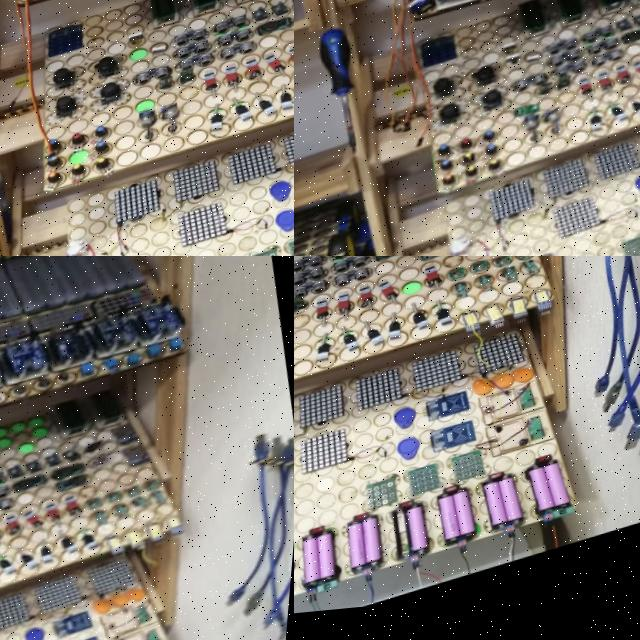Green-circles: (0, 418, 50, 451), (72, 151, 99, 174), (404, 284, 430, 305), (138, 100, 162, 121), (132, 51, 154, 69), (32, 431, 54, 448), (19, 444, 38, 463), (0, 441, 16, 457)
